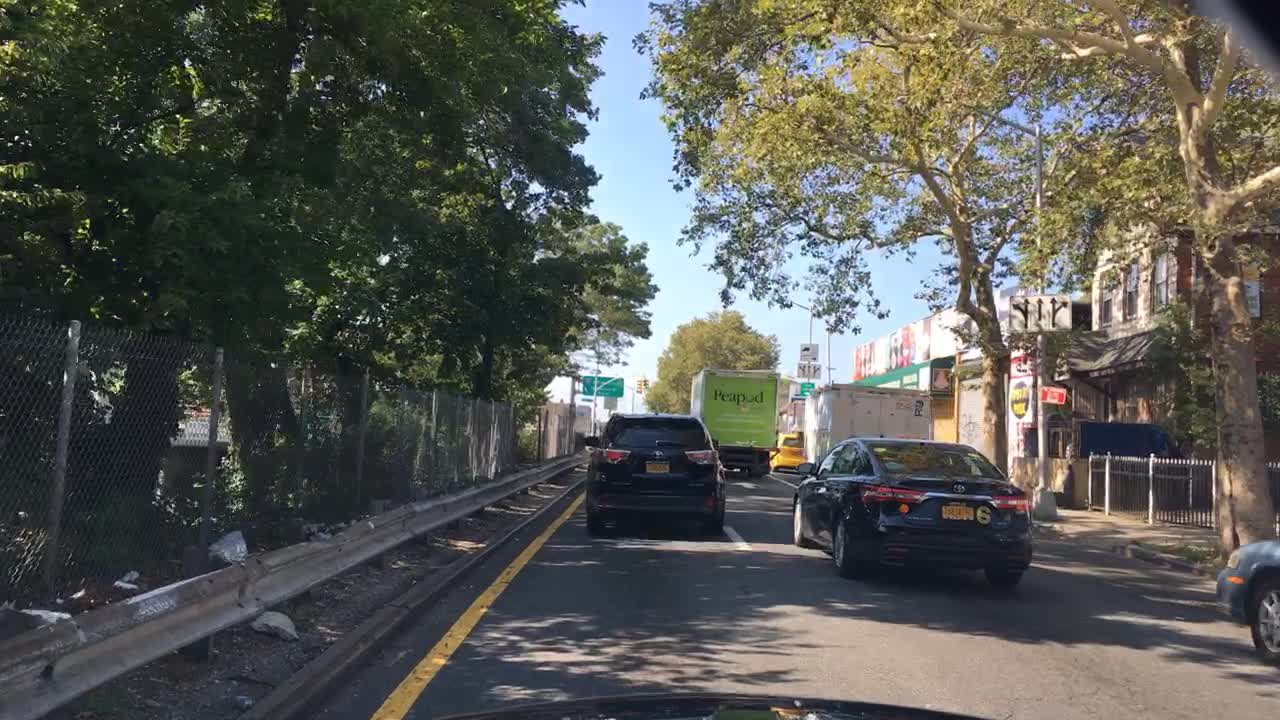car: (789, 435, 1033, 583), (581, 409, 728, 534), (1214, 535, 1279, 670), (769, 432, 808, 473)
traffic light: (643, 378, 650, 393), (635, 379, 641, 393)
traffic sign: (1007, 293, 1073, 331), (581, 376, 622, 397), (1039, 385, 1067, 405), (794, 360, 820, 376), (797, 342, 820, 360), (797, 379, 813, 394)
truck: (803, 380, 935, 473), (688, 366, 780, 479)
